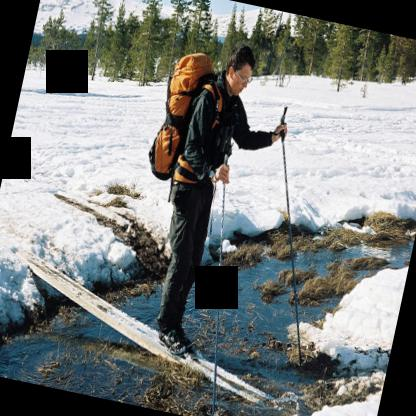backpack: (146, 49, 224, 202)
